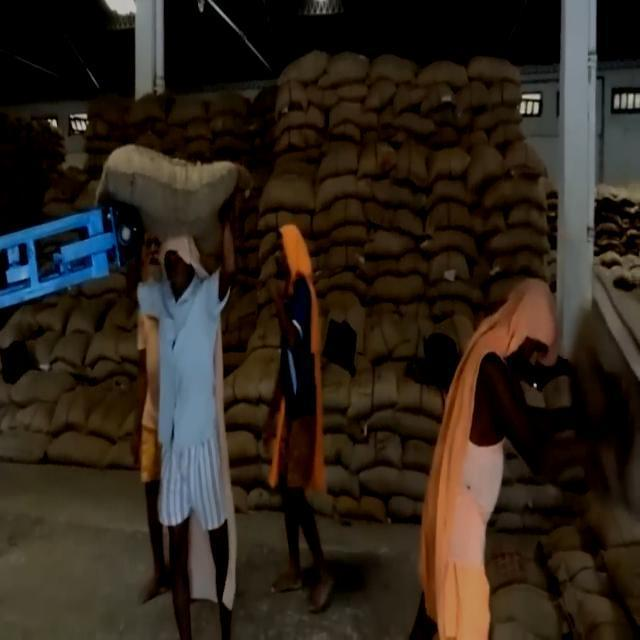gunny_bag: (93, 140, 247, 238), (488, 575, 568, 640), (561, 582, 640, 640), (598, 535, 640, 640), (45, 429, 120, 469), (364, 459, 432, 502), (7, 366, 74, 408), (338, 368, 392, 420), (257, 175, 319, 219), (364, 178, 432, 218), (311, 194, 371, 238), (357, 50, 422, 90), (311, 171, 376, 211), (467, 140, 508, 200), (488, 139, 554, 176), (272, 97, 330, 139), (546, 546, 602, 589), (317, 49, 372, 92), (475, 181, 548, 213), (272, 46, 332, 84), (356, 224, 416, 262), (485, 223, 558, 254), (365, 301, 404, 357), (0, 423, 50, 466), (418, 225, 481, 259), (408, 56, 468, 90), (366, 409, 434, 439), (323, 97, 381, 132), (313, 133, 358, 178), (80, 324, 122, 372), (412, 204, 480, 233), (426, 142, 470, 186), (424, 278, 488, 308), (366, 272, 428, 302), (120, 93, 176, 126), (470, 53, 524, 86), (386, 110, 437, 143), (465, 105, 523, 134), (424, 250, 471, 282), (223, 402, 273, 430), (168, 96, 208, 126)
